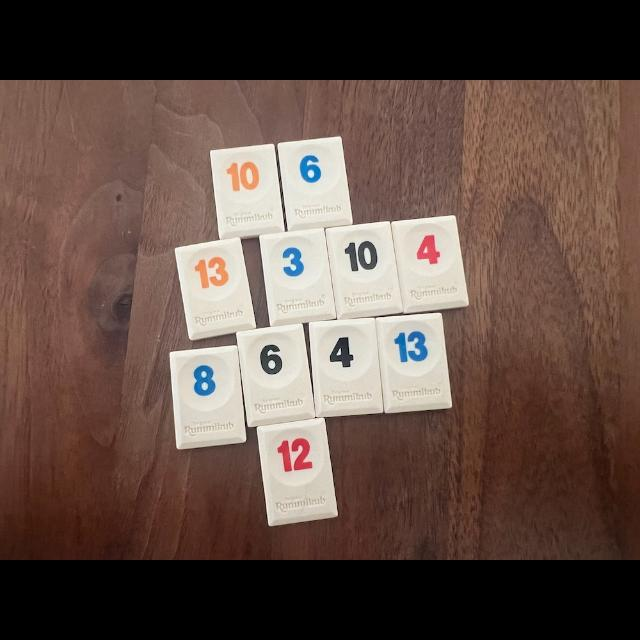black_10: (325, 221, 402, 319)
black_4: (309, 319, 384, 418)
black_6: (236, 324, 314, 426)
blue_13: (376, 312, 452, 412)
blue_3: (260, 229, 336, 326)
blue_6: (278, 136, 352, 231)
blue_8: (170, 345, 245, 449)
orange_10: (210, 144, 284, 239)
orange_13: (175, 239, 255, 340)
red_12: (258, 419, 337, 526)
red_4: (391, 215, 469, 314)
